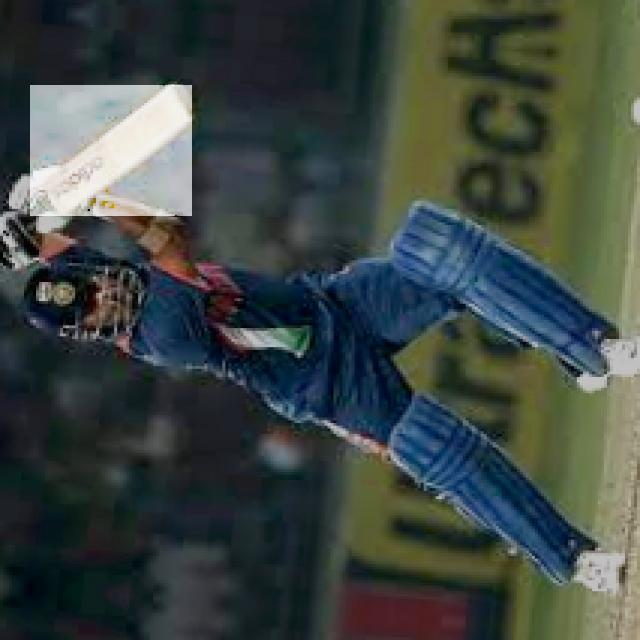bat: (30, 83, 193, 215)
toe: (165, 91, 202, 116)
